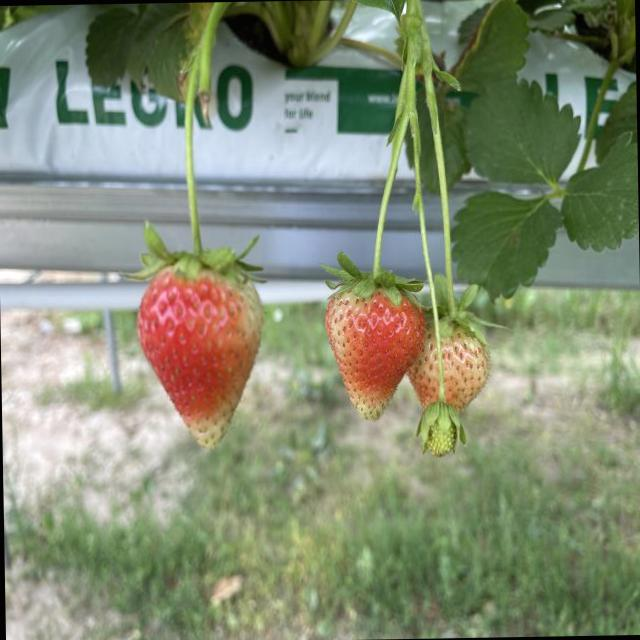stem: (322, 147, 422, 304), (433, 165, 489, 346)
strawberryNR: (442, 325, 490, 410), (408, 332, 439, 408)
strawberryR: (127, 2, 262, 283), (137, 268, 262, 448), (326, 290, 424, 420)
